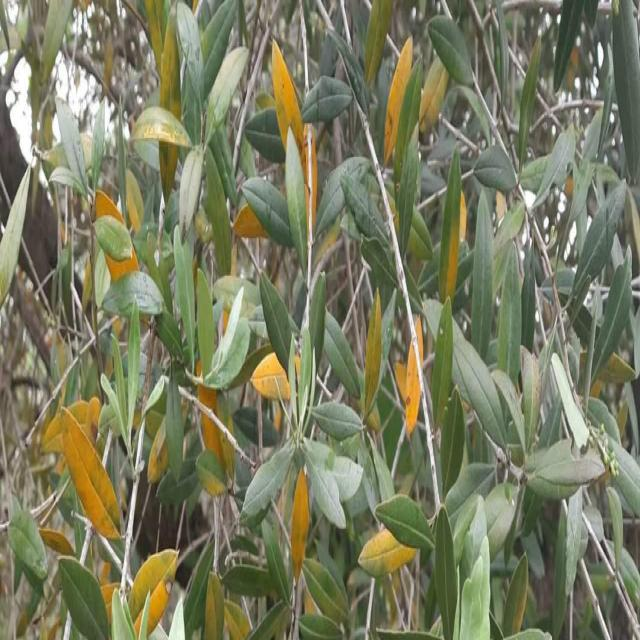Peacock Eye: (64, 410, 121, 540), (272, 41, 306, 175), (130, 549, 179, 636), (384, 35, 412, 164), (362, 285, 382, 424), (358, 529, 414, 576), (290, 468, 310, 583), (132, 107, 190, 145), (406, 338, 421, 437)
